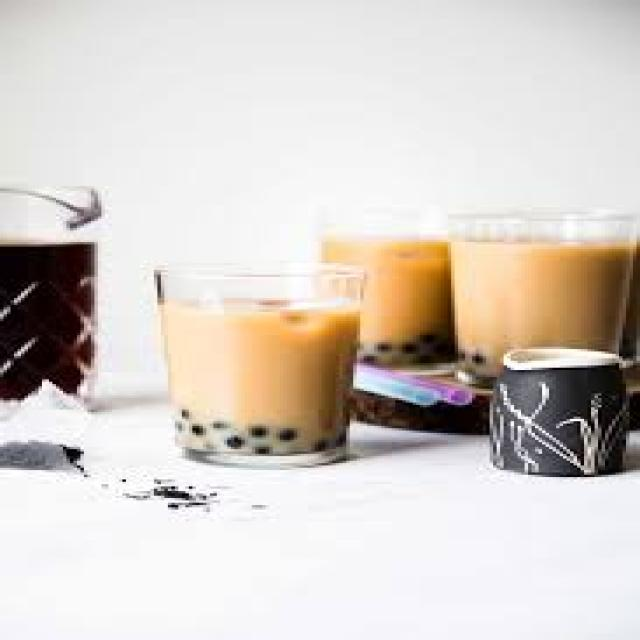bottle: (154, 264, 363, 467)
